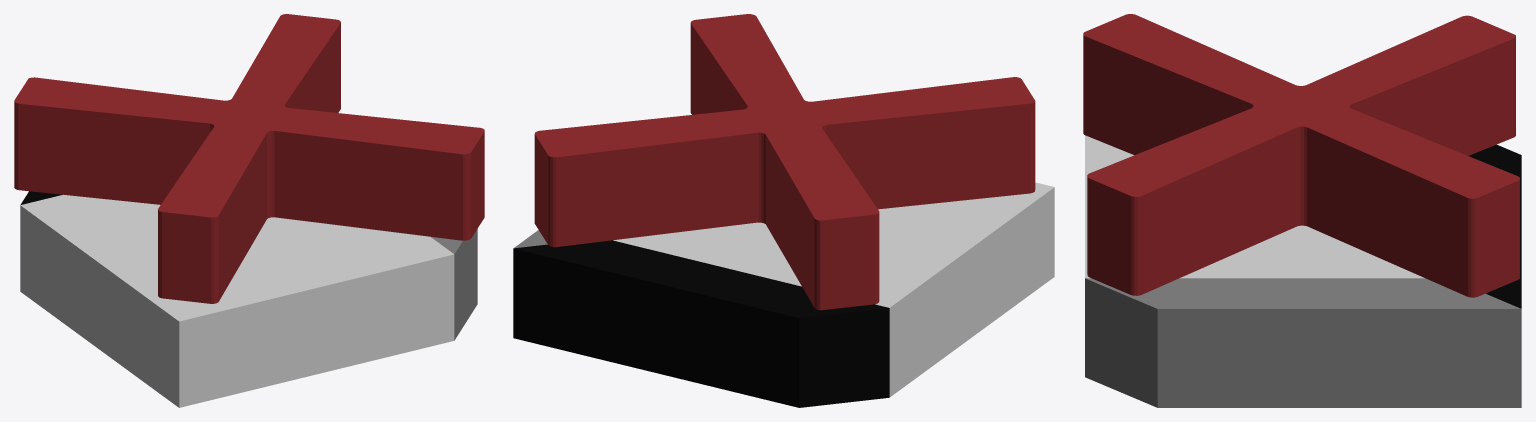
File: remove-object-tool.glb
The picture shows the model from 3 angles, left to right: view 1: azimuth 30°, elevation 25°; view 2: azimuth 150°, elevation 25°; view 3: azimuth 270°, elevation 25°; orthographic projection. The views are drawn at different scales.
Parts seen in each view (by area): view 1: remove-object-tool; view 2: remove-object-tool; view 3: remove-object-tool.
Part boxes in pixels (x1,y1,x2,y2): remove-object-tool: (14,14,484,407); remove-object-tool: (513,14,1054,407); remove-object-tool: (1083,14,1521,407).
Size of the model in its own units: 0.02 by 0.0106 by 0.0201.
